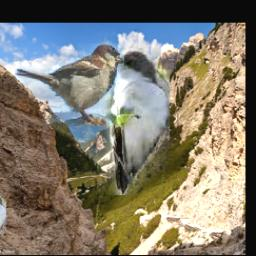Cuckoo: (98, 48, 171, 195), (0, 192, 7, 246)
Sparrow: (15, 44, 124, 127)
